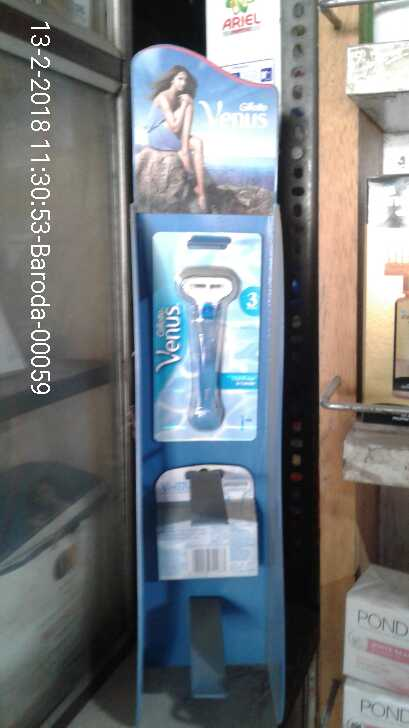reject: (218, 457, 287, 513)
venus: (151, 233, 261, 441)
